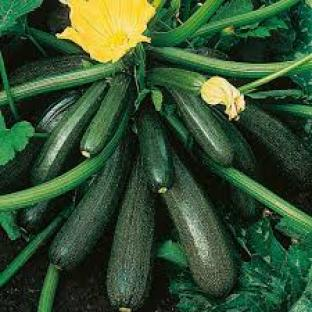Zucchini: (50, 136, 134, 270), (163, 157, 237, 296), (32, 81, 106, 184), (107, 159, 153, 310), (239, 104, 311, 189), (171, 91, 234, 166), (81, 74, 131, 158), (136, 106, 174, 192), (214, 110, 260, 180), (0, 138, 44, 194), (10, 56, 91, 85), (37, 91, 81, 133), (37, 91, 80, 133), (149, 67, 206, 94), (19, 199, 63, 232)
